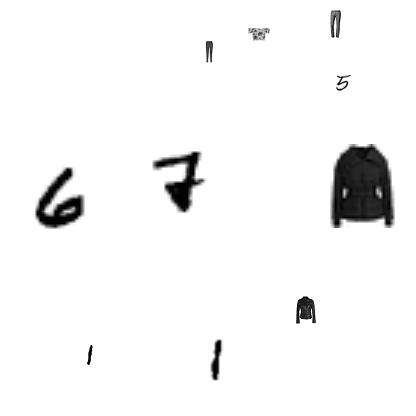1: (187, 332, 243, 388), (75, 341, 103, 369)
5: (331, 71, 353, 93)
6: (15, 162, 99, 246)
7: (138, 137, 222, 221)
Coat: (319, 144, 403, 228), (292, 296, 320, 324)
T-shirt/top: (248, 23, 270, 45)
Trouser: (321, 10, 349, 38), (198, 41, 220, 63)
